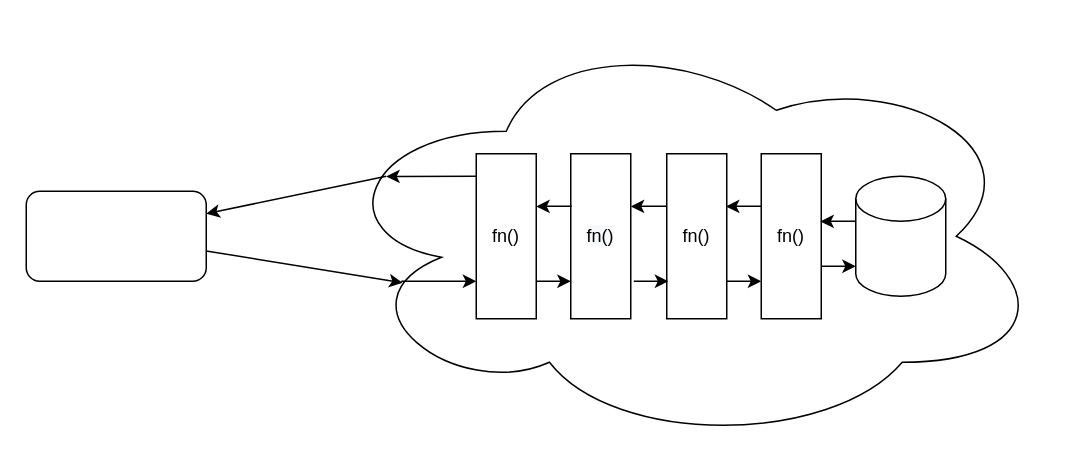
Some shapes in this 1073 by 473 pixel diagram are drawn without their labels. The shapes that lost their labels are listed below. From the top down, each one's centre as x and y in pixels, then its label:
At (115,235): "Browser".
At (900,235): "db".
